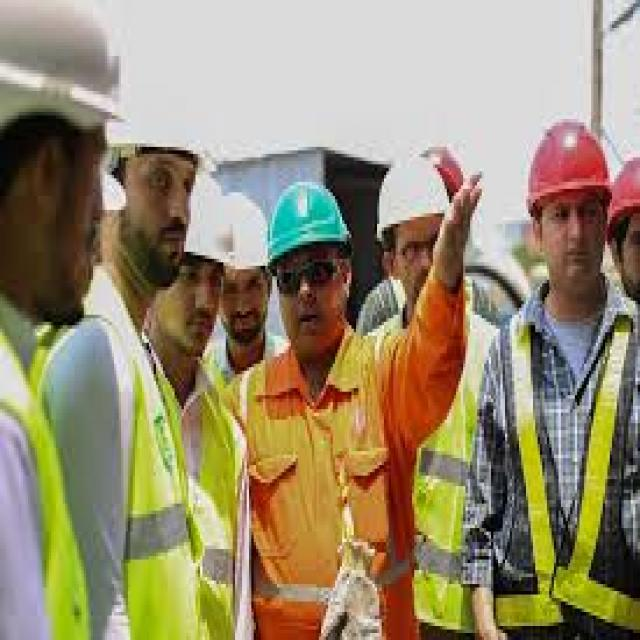Reflective-Jacket: (495, 294, 640, 633), (242, 332, 400, 640), (0, 269, 93, 640)
Safety-Helmet: (0, 0, 133, 175), (519, 112, 614, 217), (263, 172, 358, 270), (370, 147, 456, 241), (212, 189, 274, 276), (605, 144, 640, 242)
